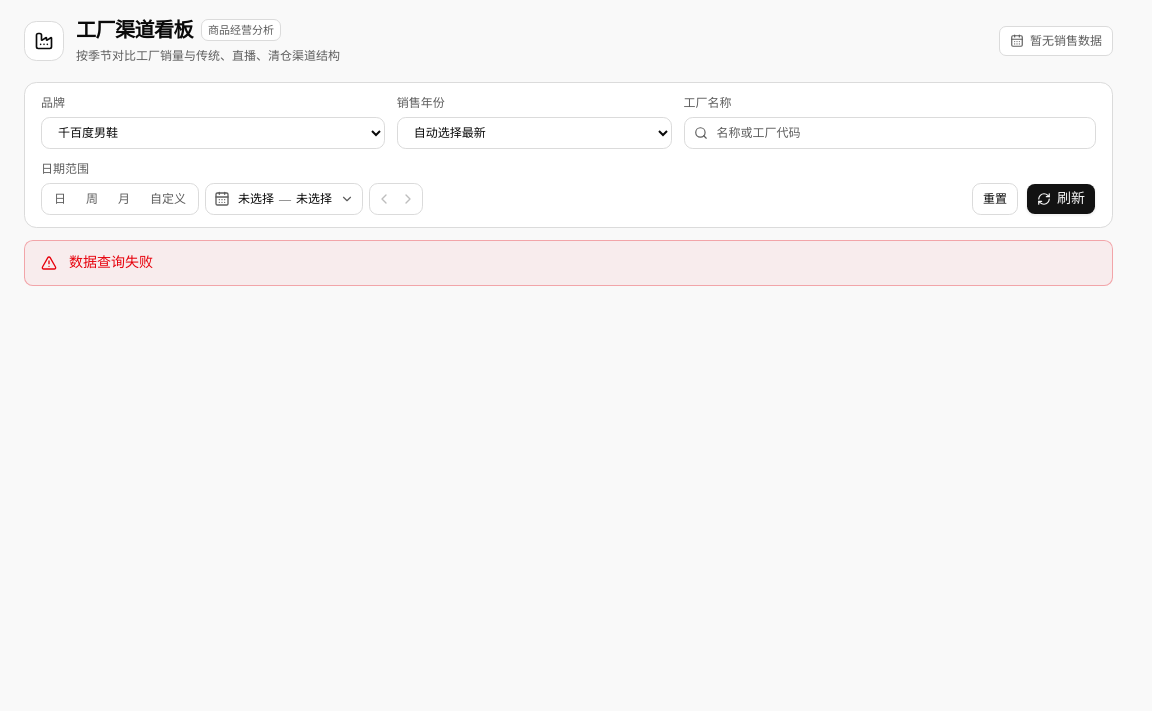
the active request failure is shown and can be retried
Check: the text "数据查询失败" is shown, box [69,253,153,273]
Step 1. Click the button "刷新" → (1061,199), box [1026,183,1096,215]
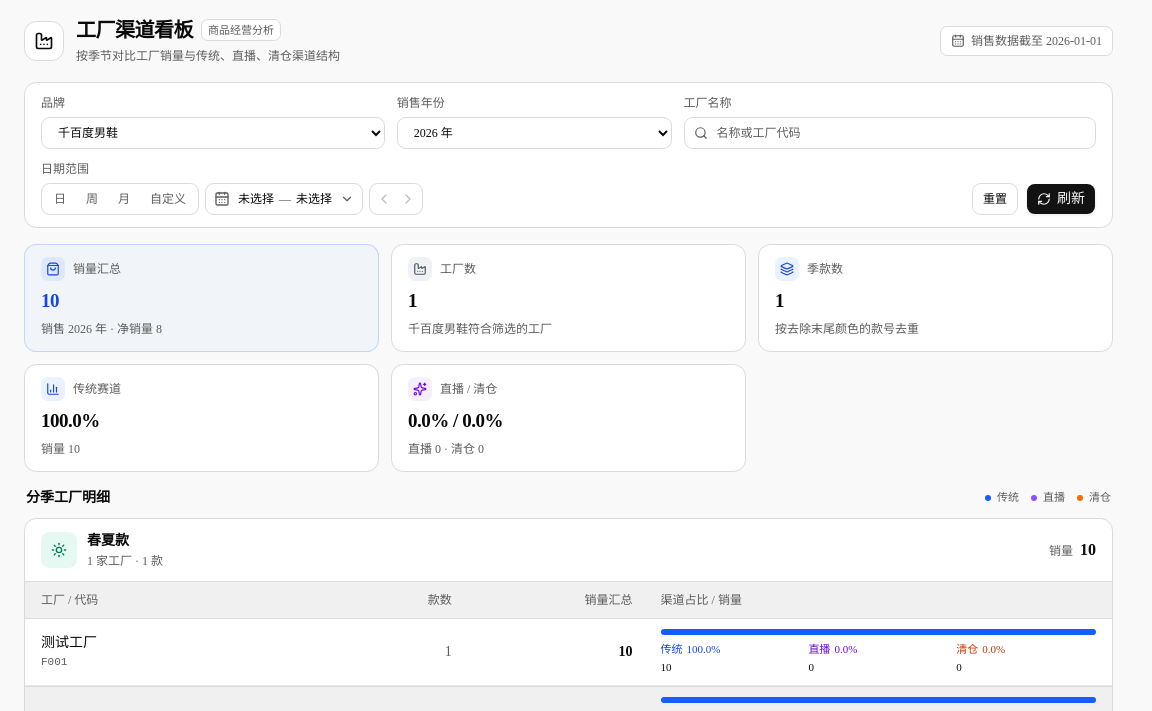
Check: the text "测试工厂" is shown, box [41,635,97,650]
Check: the text "数据查询失败" is gone
